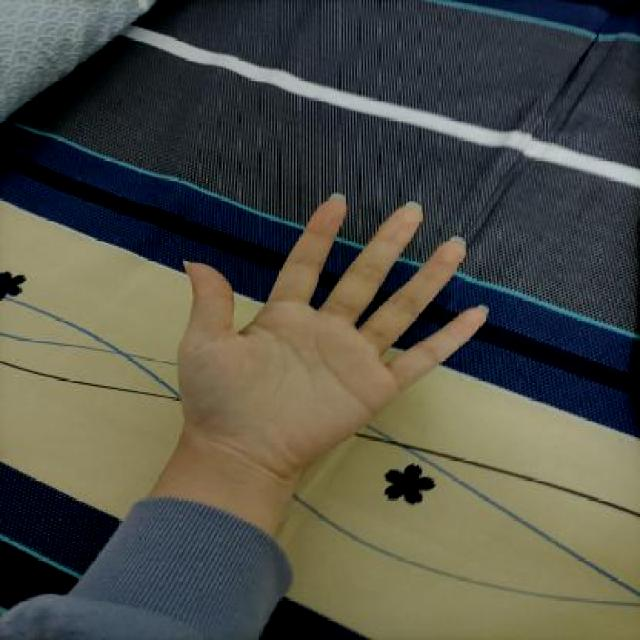no_glove: (151, 181, 509, 514)
